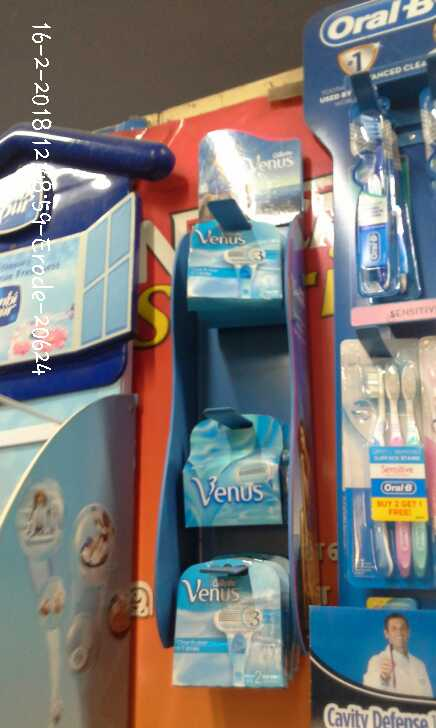beauty: (168, 555, 293, 697), (179, 417, 289, 534), (186, 208, 284, 317)
pharmacy: (345, 343, 429, 579), (350, 88, 400, 285)
